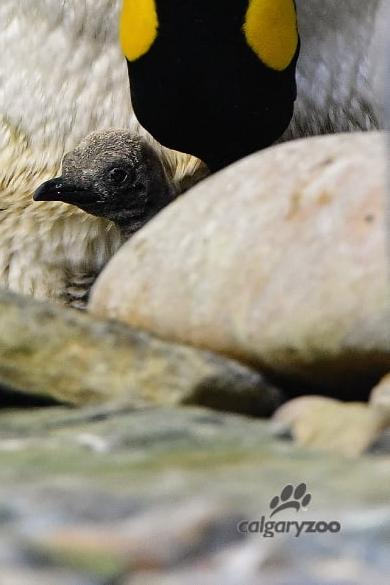Emperor Penguin: (0, 0, 389, 464)
